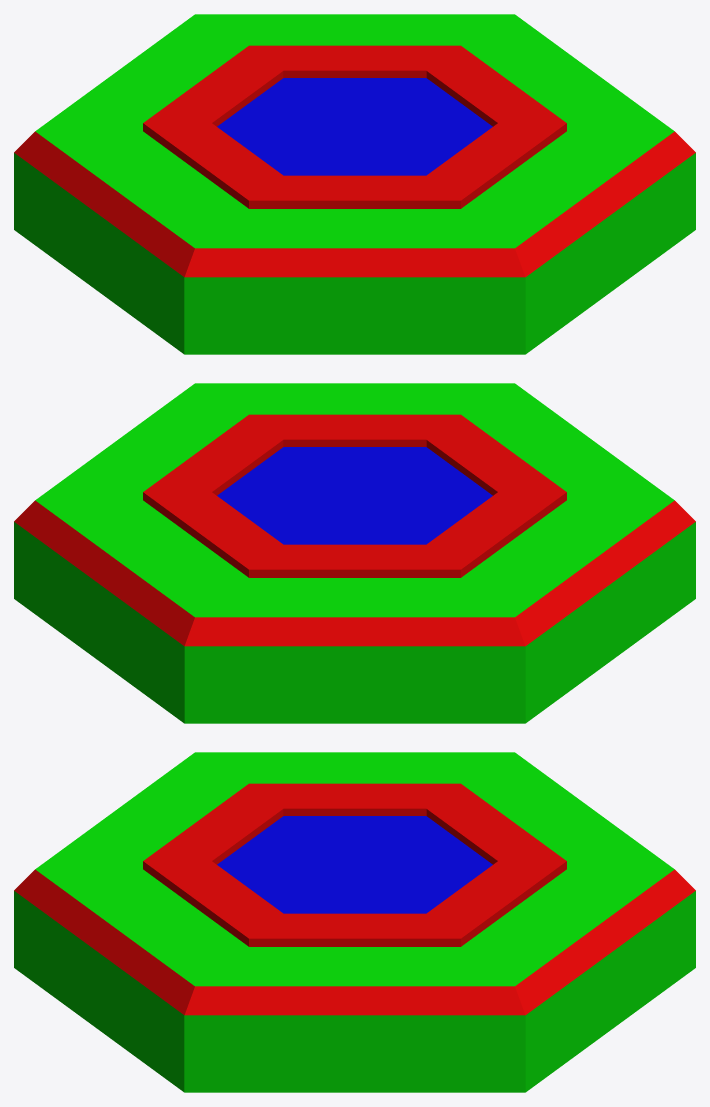
The model's file is Hexel.fbx.
3 views of the same model, one above another, from view 1: azimuth 30°, elevation 25°; view 2: azimuth 150°, elevation 25°; view 3: azimuth 270°, elevation 25° (orthographic).
Parts seen in each view (by area): view 1: Hexel; view 2: Hexel; view 3: Hexel.
Part boxes in pixels (x1,y1,x2,y2): Hexel: (14,14,695,354); Hexel: (14,383,695,723); Hexel: (14,752,695,1092).
Size of the model in its own units: 0.866 by 0.1727 by 1.
